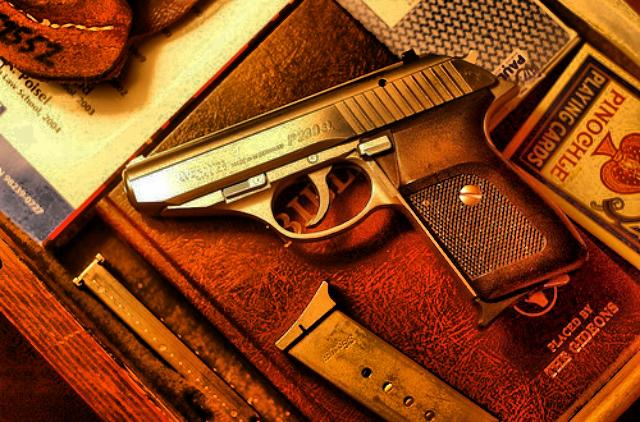pistol: (115, 46, 582, 322)
